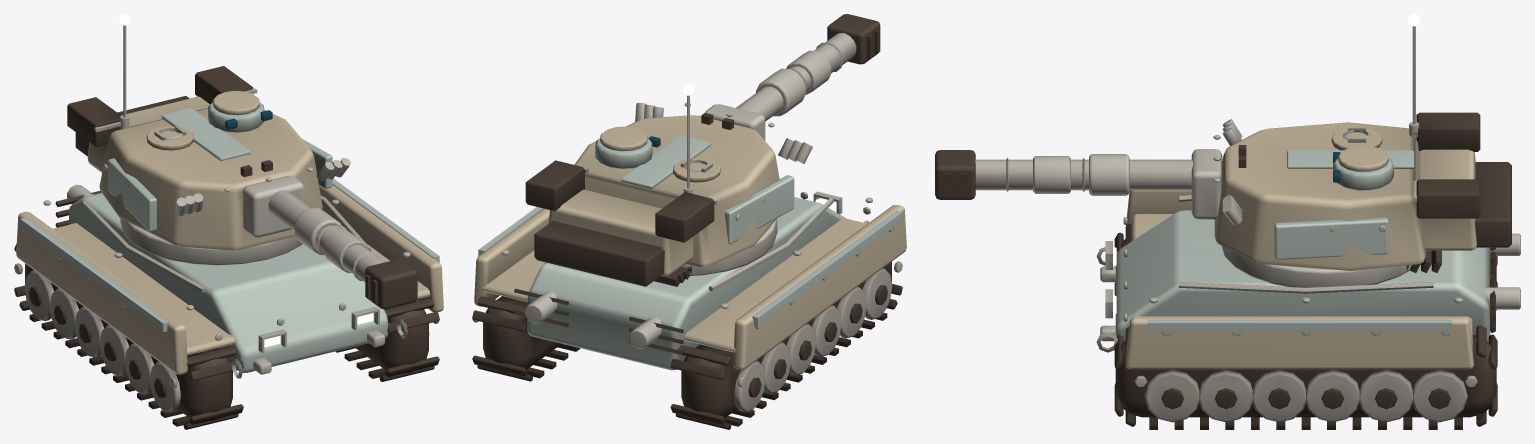
File: tank.glb
3 views of the same model, side by side, from view 1: azimuth 30°, elevation 25°; view 2: azimuth 150°, elevation 25°; view 3: azimuth 270°, elevation 25° (orthographic). The views are drawn at different scales.
Parts seen in each view (by area): view 1: Hull, Turret_head, Armor, Tracks, Steel, Wheels, Turret_head.001, Turret_head.002, Main_cannon, Turret_head.004, Muzzle_brake; view 2: Hull, Turret_head, Armor, Tracks, Turret_head.004, Wheels, Turret_head.001, Steel, Main_cannon, Turret_head.002, Muzzle_brake, Deck; view 3: Hull, Turret_head, Armor, Wheels, Tracks, Turret_head.004, Steel, Main_cannon, Turret_head.001, Turret_head.002, Muzzle_brake, Deck.
Boxes of the visible parts, x1,y1,x2,y2 form: Hull: (20, 178, 439, 372); Turret_head: (87, 90, 322, 250); Armor: (16, 185, 443, 374); Tracks: (14, 244, 439, 429); Steel: (14, 184, 439, 387); Wheels: (24, 270, 429, 412); Turret_head.001: (108, 102, 332, 231); Turret_head.002: (94, 25, 350, 237); Main_cannon: (268, 190, 384, 282); Turret_head.004: (67, 66, 272, 176); Muzzle_brake: (365, 259, 417, 309); Hull: (478, 197, 902, 370); Turret_head: (548, 115, 779, 275); Armor: (474, 205, 906, 369); Tracks: (472, 261, 902, 429); Turret_head.004: (525, 113, 733, 286); Wheels: (734, 268, 891, 412); Turret_head.001: (595, 135, 794, 244); Steel: (472, 191, 902, 387); Main_cannon: (736, 33, 856, 121); Turret_head.002: (553, 95, 812, 220); Muzzle_brake: (827, 14, 880, 64); Deck: (514, 266, 692, 354); Hull: (1115, 210, 1490, 341); Turret_head: (1214, 122, 1476, 270); Armor: (1125, 190, 1473, 369); Wheels: (1144, 369, 1467, 422); Tracks: (1114, 223, 1497, 429); Turret_head.004: (1238, 112, 1511, 247); Steel: (1096, 190, 1520, 386); Main_cannon: (975, 154, 1193, 195); Turret_head.001: (1274, 150, 1414, 259); Turret_head.002: (1191, 26, 1419, 231); Muzzle_brake: (935, 150, 975, 199); Deck: (1406, 247, 1495, 332).
Bounding box in the file's own units: 2.68 × 2.81 × 4.61.
